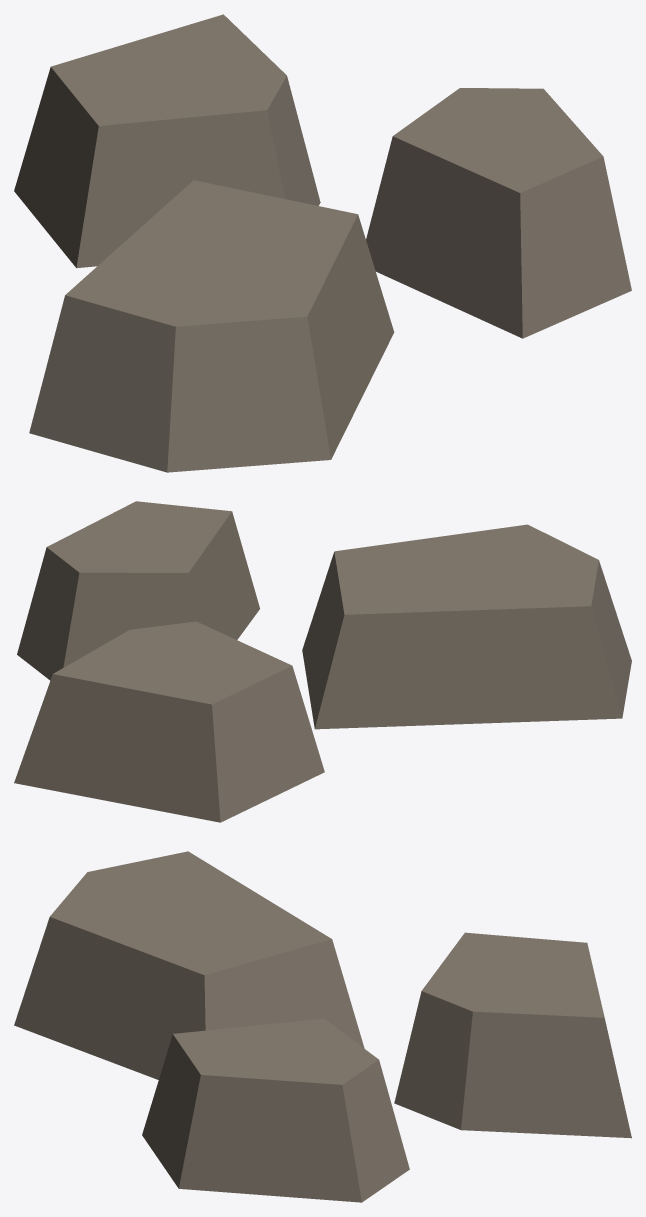
File: SM_Env_Pebbles_01.fbx
3 renders of one model, top to bottom at view 1: azimuth 30°, elevation 25°; view 2: azimuth 150°, elevation 25°; view 3: azimuth 270°, elevation 25°, orthographic. The views are drawn at different scales.
Parts seen in each view (by area): view 1: SM_Env_Pebbles_01; view 2: SM_Env_Pebbles_01; view 3: SM_Env_Pebbles_01.
Boxes of the visible parts, x1,y1,x2,y2 form: SM_Env_Pebbles_01: (14, 14, 631, 472); SM_Env_Pebbles_01: (14, 501, 631, 822); SM_Env_Pebbles_01: (14, 851, 631, 1202).
Size of the model in its own units: 78.85 by 15.3 by 79.59.
